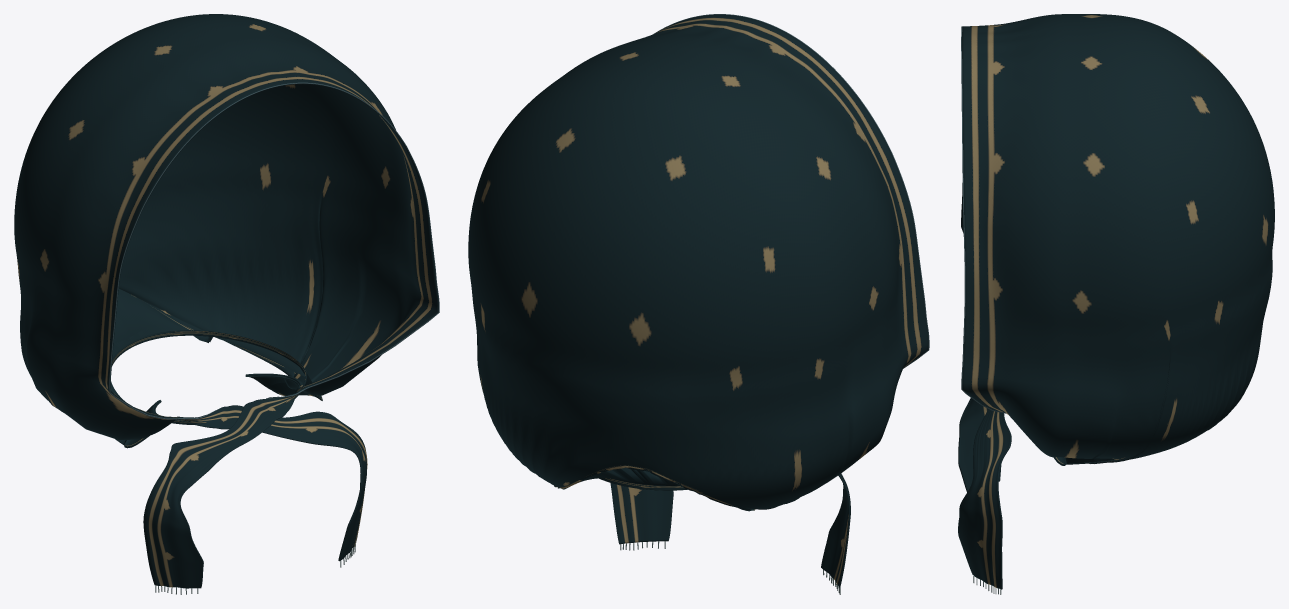
File: Feminine-Feminine-ponytail-jersey-pashmina251-headgear-41885bef.glb
The picture shows the model from 3 angles, left to right: view 1: azimuth 30°, elevation 25°; view 2: azimuth 150°, elevation 25°; view 3: azimuth 270°, elevation 25°; orthographic projection. The views are drawn at different scales.
Parts seen in each view (by area): view 1: 226 headgear / Headwear / continuous woven pashmina239, 226 headgear / Headwear / face edge239; view 2: 226 headgear / Headwear / continuous woven pashmina239, 226 headgear / Headwear / face edge239; view 3: 226 headgear / Headwear / continuous woven pashmina239, 226 headgear / Headwear / face edge239.
Boxes of the visible parts, left/top/right/bottom form: 226 headgear / Headwear / continuous woven pashmina239: left=14, top=14, right=438, bottom=588; 226 headgear / Headwear / face edge239: left=109, top=82, right=439, bottom=419; 226 headgear / Headwear / continuous woven pashmina239: left=468, top=14, right=928, bottom=587; 226 headgear / Headwear / face edge239: left=654, top=14, right=929, bottom=368; 226 headgear / Headwear / continuous woven pashmina239: left=958, top=14, right=1274, bottom=589; 226 headgear / Headwear / face edge239: left=961, top=26, right=1006, bottom=413.
Bounding box in the file's own units: 0.8679 × 1.22 × 0.678.
Materials: 3 (1 with a texture image).
